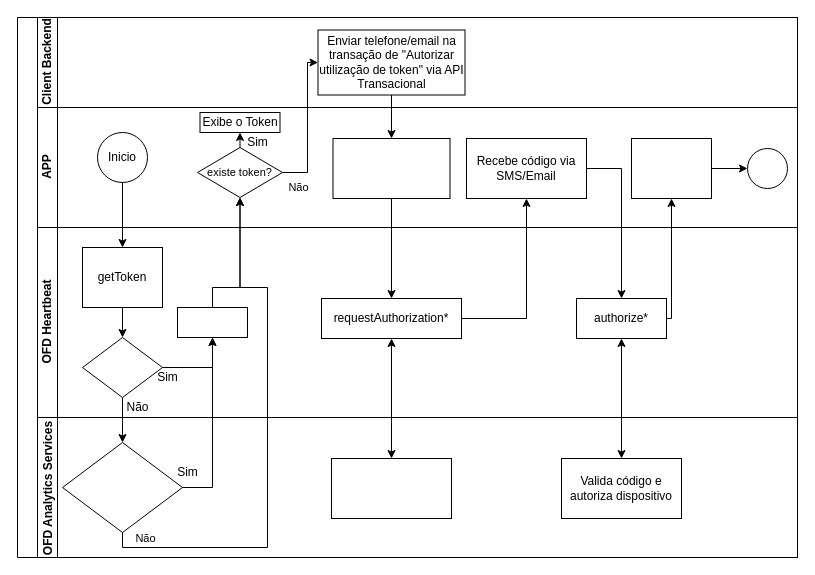
Image size: 815x575. Some labels were removed from this diagram. The shapes that lost their labels are listed below. From the top down, each one's centre as x and y in pixels, then its label:
At (x=391, y=168): "App solicita envio do SMS".
At (x=671, y=168): "Dispositivo autorizado a gerar Token".
At (x=767, y=168): "Fim".
At (x=212, y=322): "Gera Token".
At (x=122, y=367): "tem seed local?".
At (x=122, y=487): "Dispositivo pode emitir token?".
At (x=391, y=488): "Envia SMS/Email".
